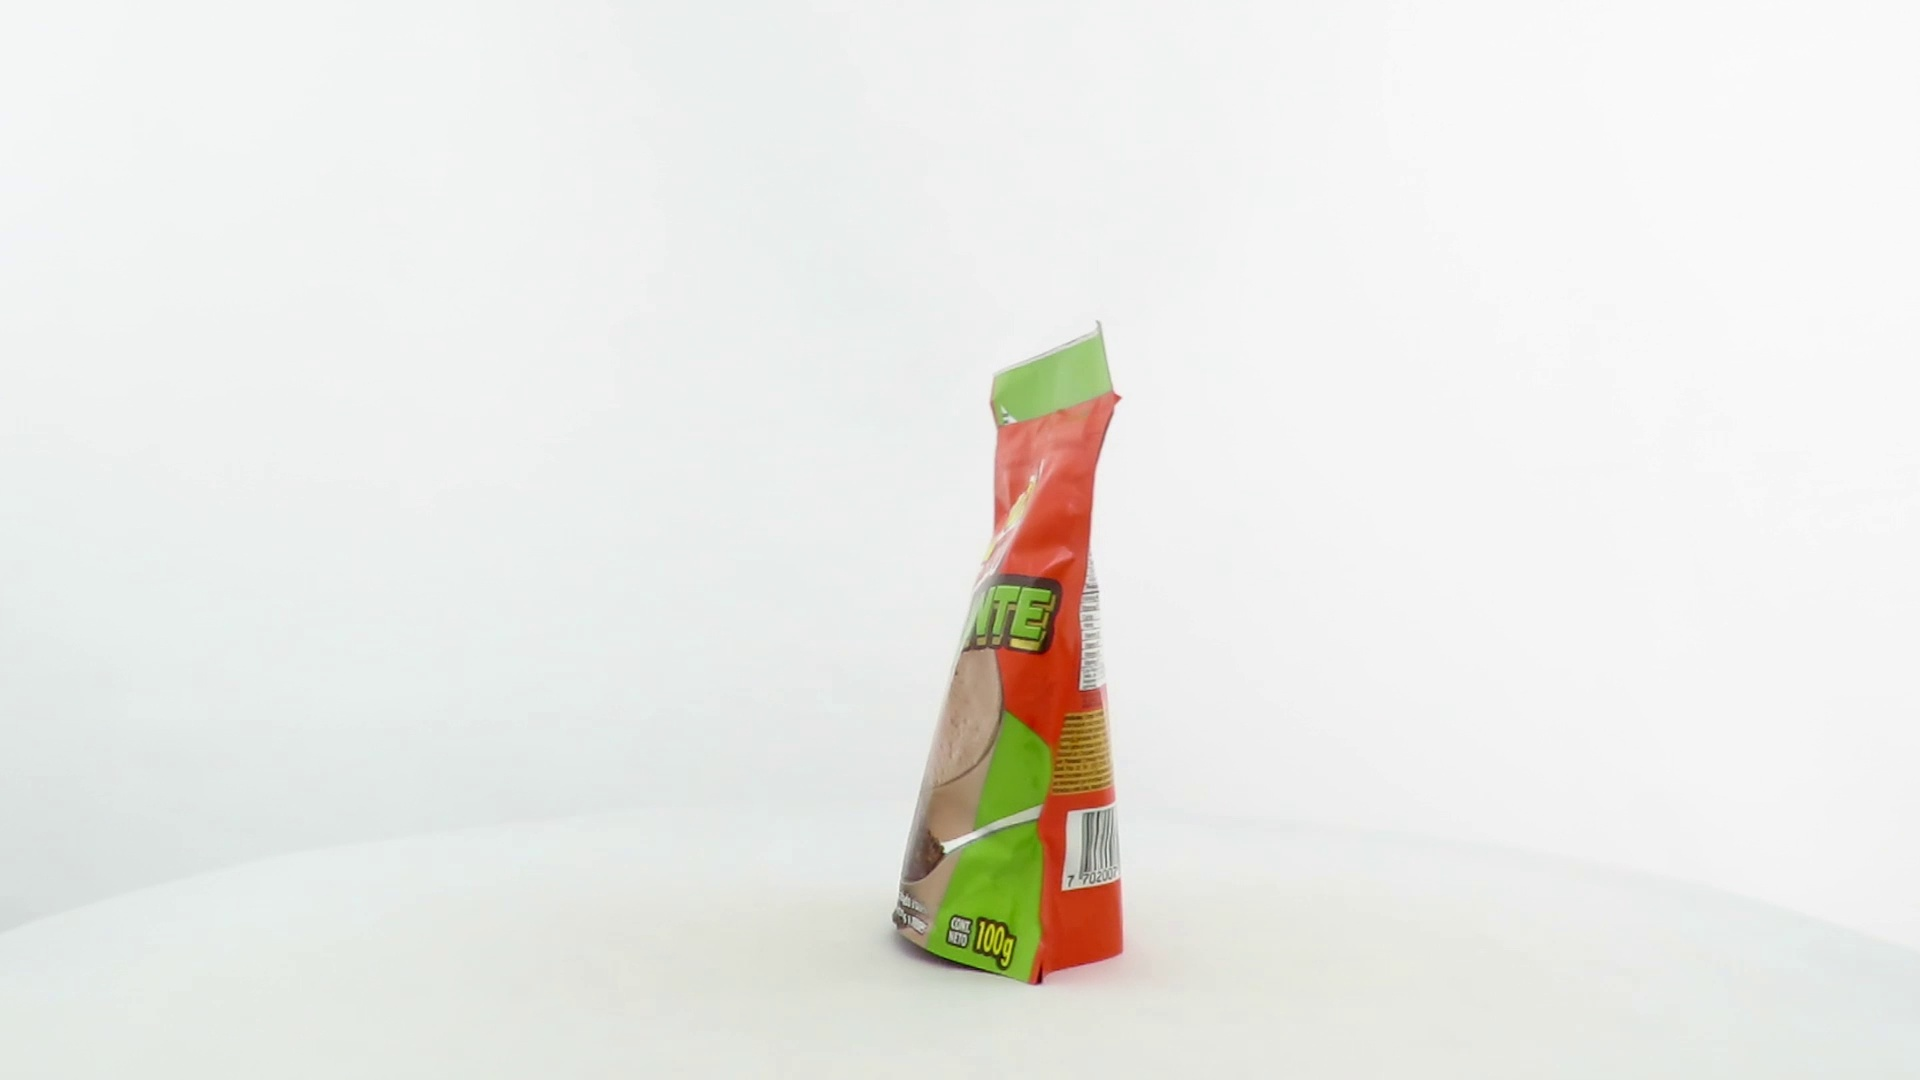COL0170102DYP10000: (887, 315, 1129, 992)
